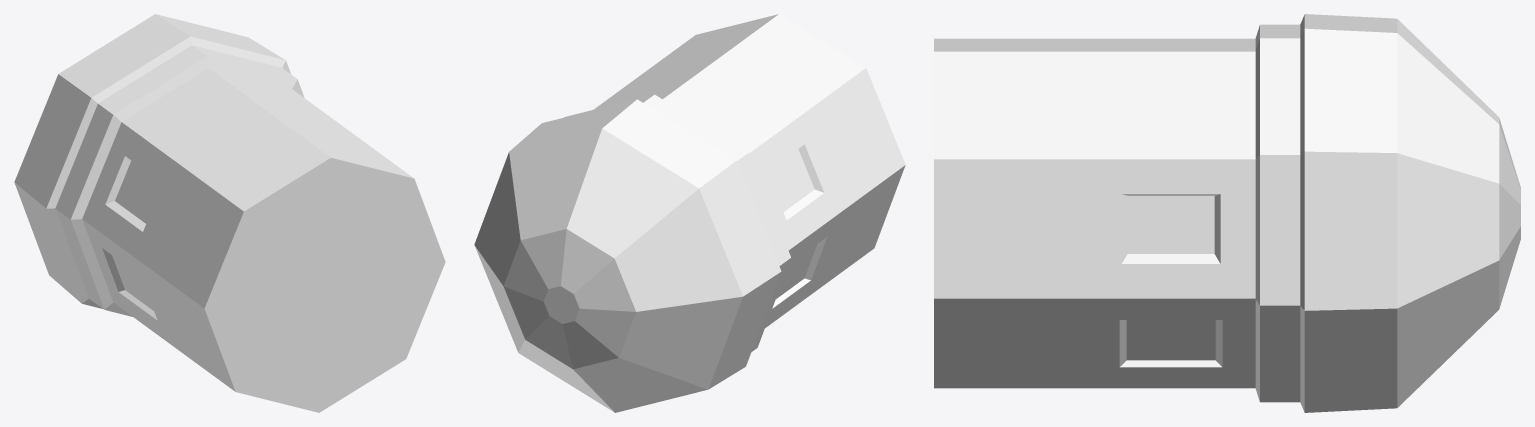
The model's file is venice_building_8.fbx.
3 renders of one model, left to right at view 1: azimuth 30°, elevation 25°; view 2: azimuth 150°, elevation 25°; view 3: azimuth 270°, elevation 25°, orthographic. The views are drawn at different scales.
Parts seen in each view (by area): view 1: Circle.001; view 2: Circle.001; view 3: Circle.001.
Boxes of the visible parts, box(x1,y1,x2,y2) form: Circle.001: box(14, 14, 445, 412); Circle.001: box(474, 14, 905, 412); Circle.001: box(934, 14, 1520, 412).
Size of the model in its own units: 445 by 445 by 625.
